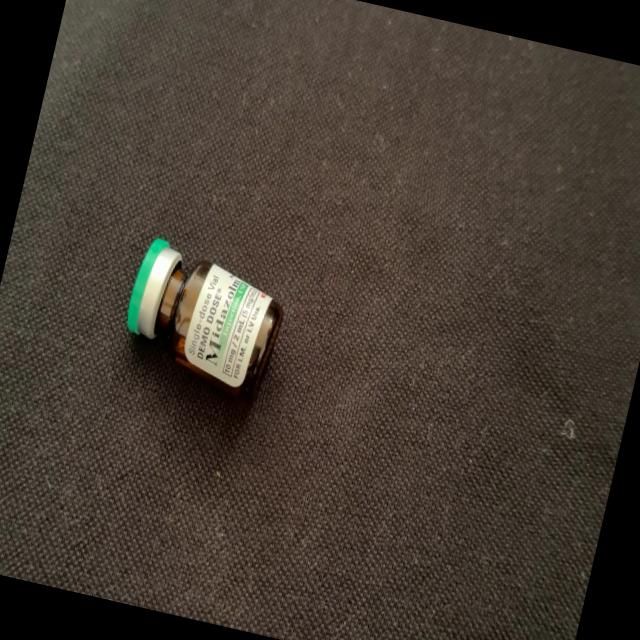midazolm: (115, 236, 290, 403)
